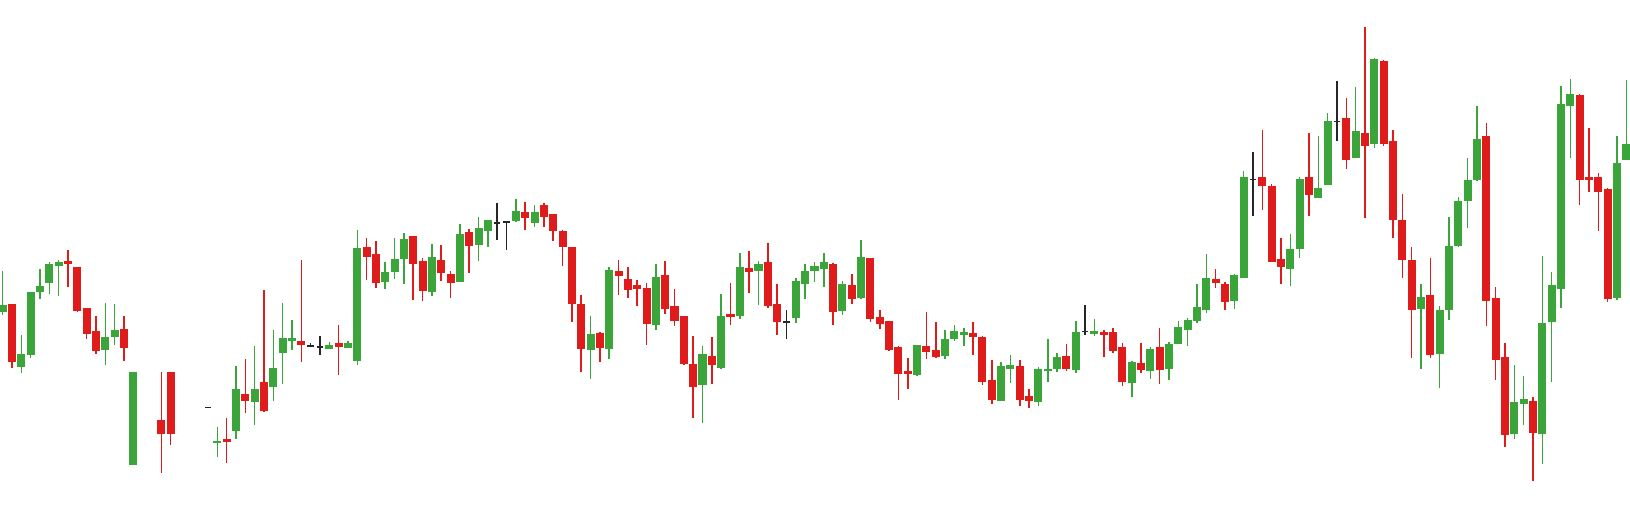buy: (577, 293, 708, 429), (892, 350, 1008, 409), (1051, 338, 1137, 397)
sell: (1469, 80, 1587, 233)
